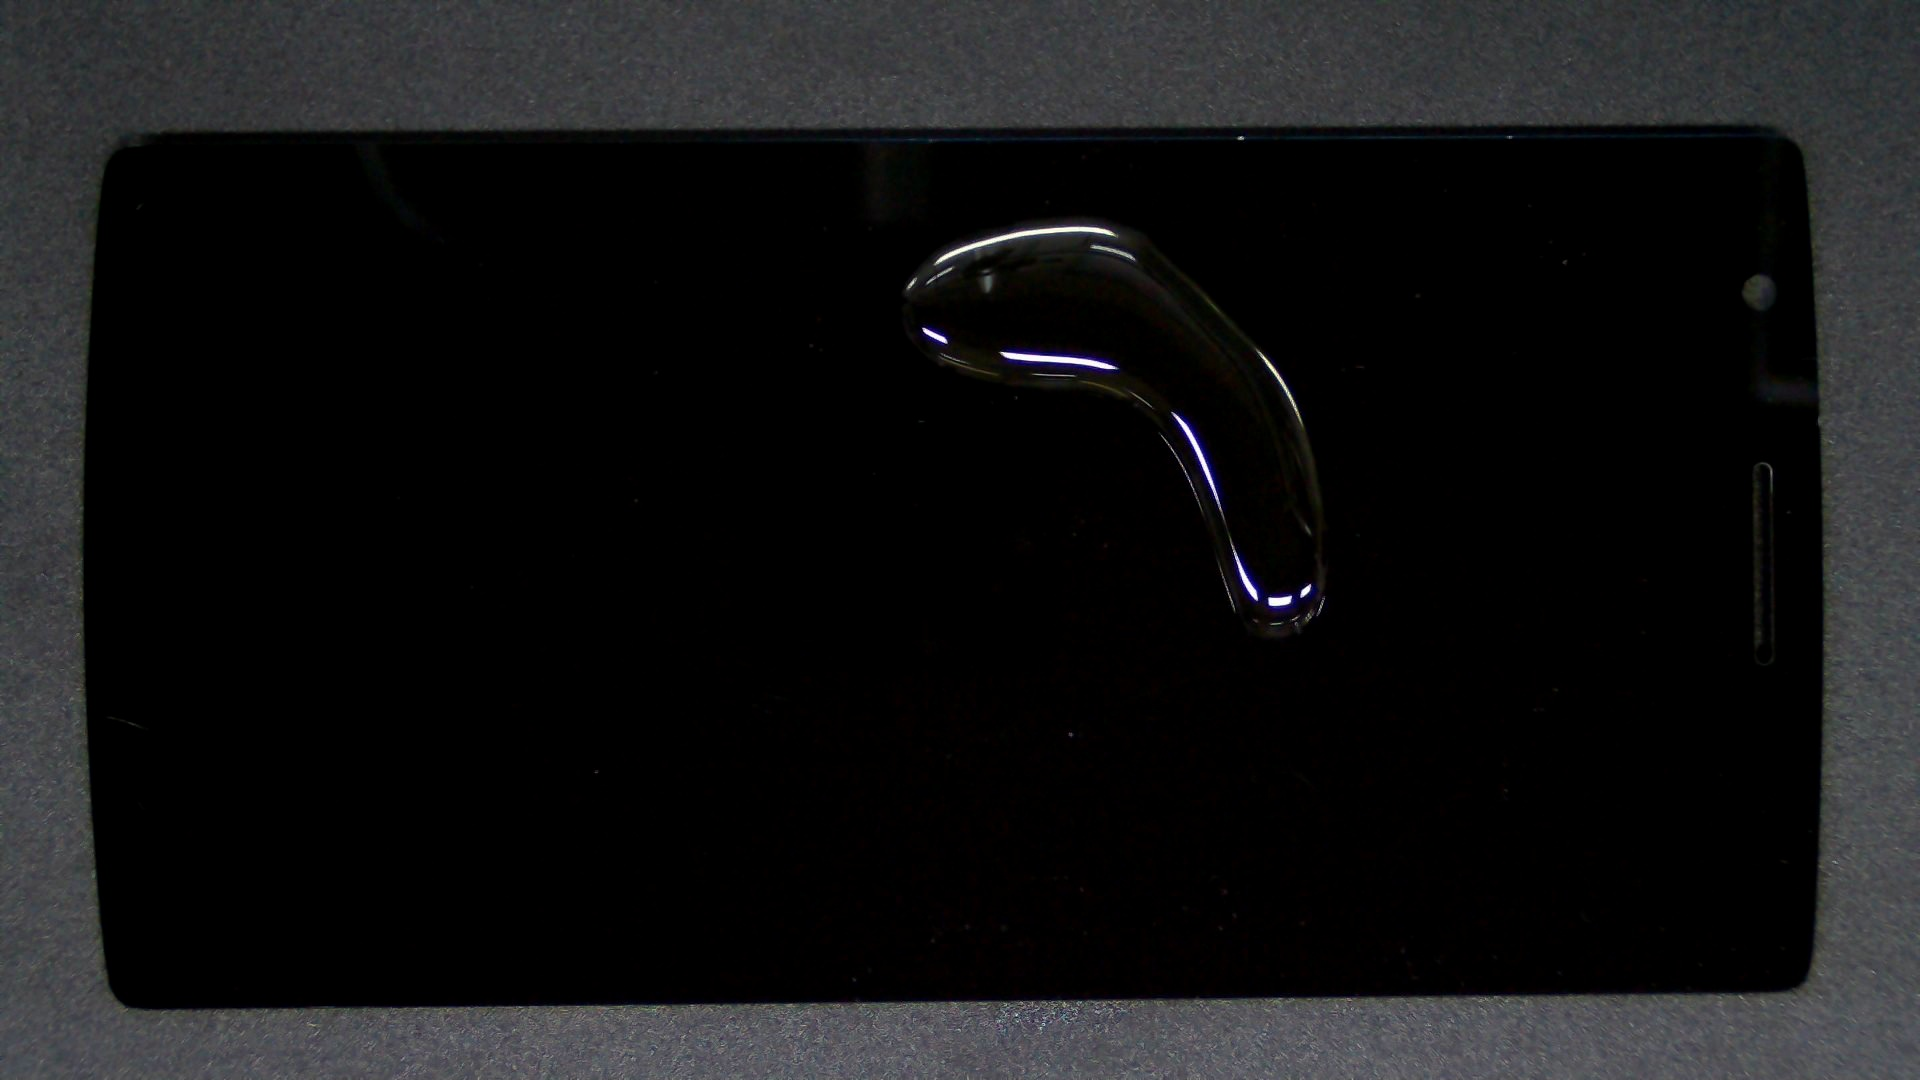oil: (545, 108, 1630, 324)
